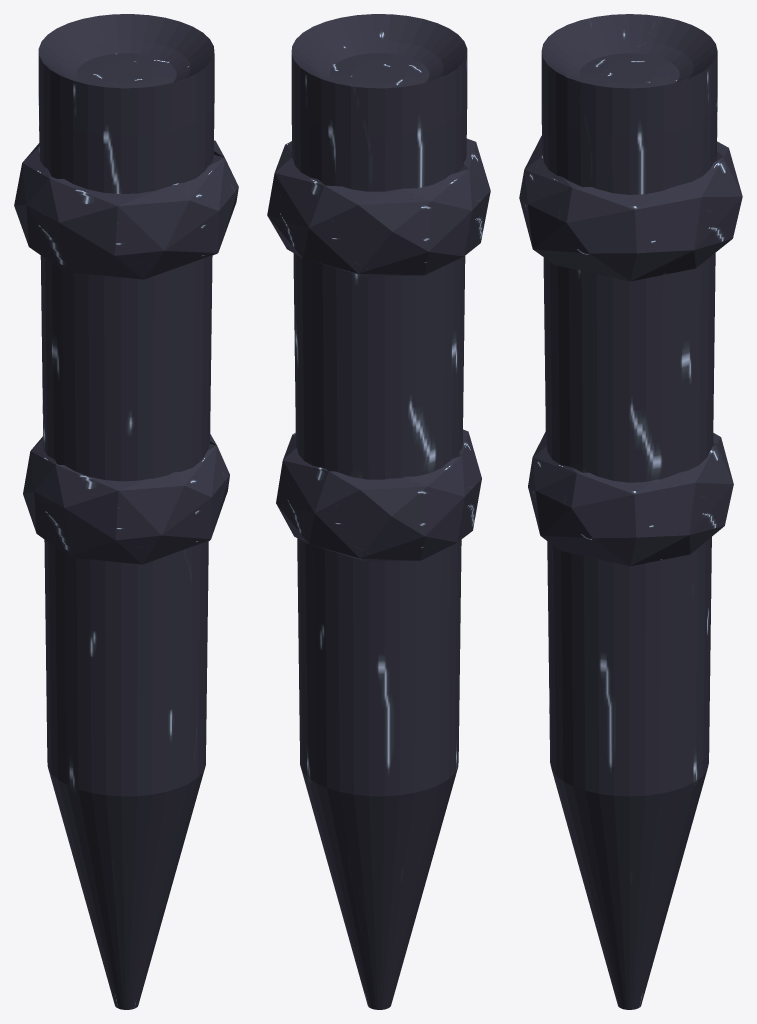
Rendered from iron-bollard.glb.
3 renders of one model, left to right at view 1: azimuth 30°, elevation 25°; view 2: azimuth 150°, elevation 25°; view 3: azimuth 270°, elevation 25°, orthographic.
Visible parts, largest first — view 1: Torus; view 2: Torus; view 3: Torus.
Part boxes in pixels (x1,y1,x2,y2): Torus: [14, 14, 238, 1009]; Torus: [267, 14, 490, 1009]; Torus: [519, 14, 742, 1009].
Size of the model in its own units: 1.17 by 5.52 by 1.17.
1 material, 1 textured.
